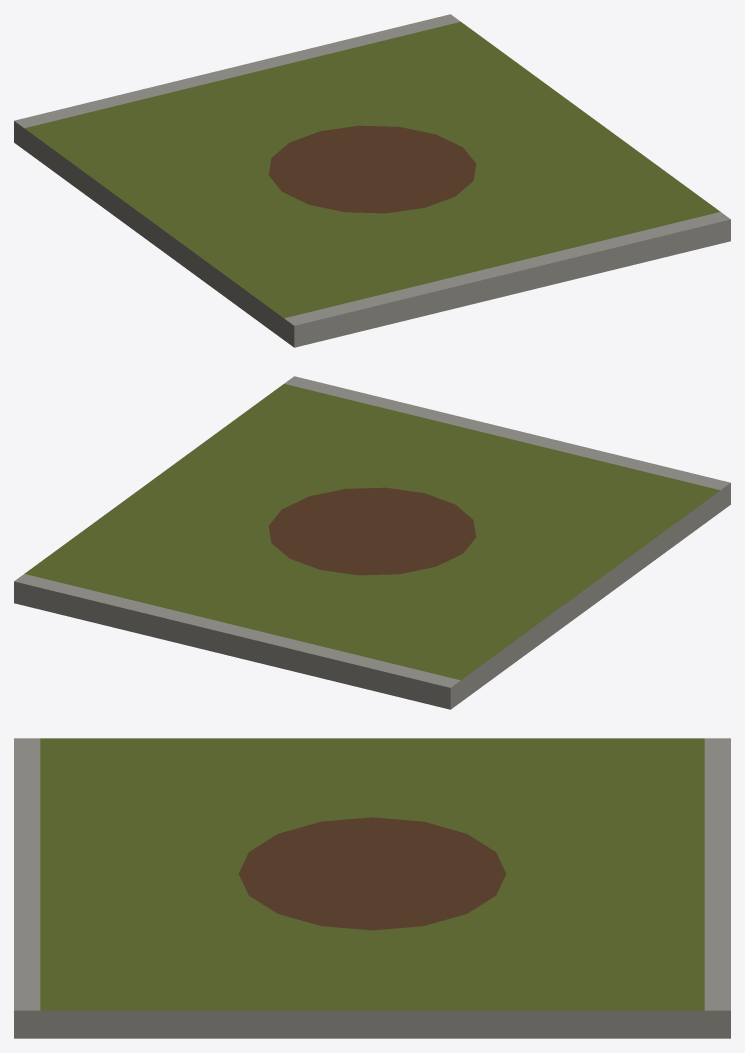
File: median_treewell_4p07.glb
3 views of the same model, one above another, from view 1: azimuth 30°, elevation 25°; view 2: azimuth 150°, elevation 25°; view 3: azimuth 270°, elevation 25° (orthographic). The views are drawn at different scales.
Parts seen in each view (by area): view 1: median_treewell_4p07-col; view 2: median_treewell_4p07-col; view 3: median_treewell_4p07-col.
Part boxes in pixels (x1,y1,x2,y2): median_treewell_4p07-col: (14,14,730,347); median_treewell_4p07-col: (14,376,730,709); median_treewell_4p07-col: (14,738,730,1038).
Size of the model in its own units: 3.66 by 0.179 by 4.07.
